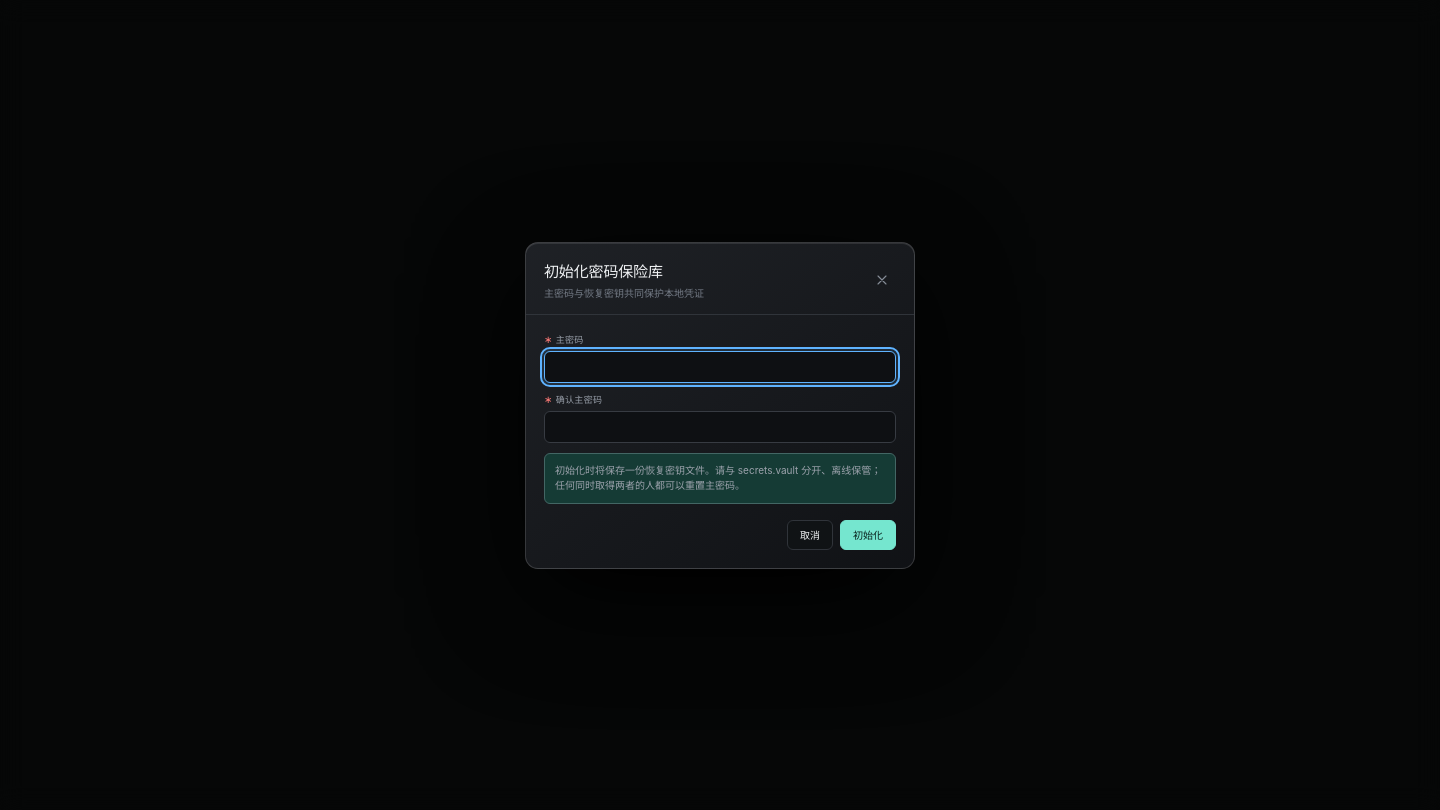
Test: MasterPasswordDialog › requires a 12 character matching master password before initialization
This screenshot has width=1440, height=810.
Type "short" into the password field labelled "主密码" at (720, 366), box [544,350,896,382]
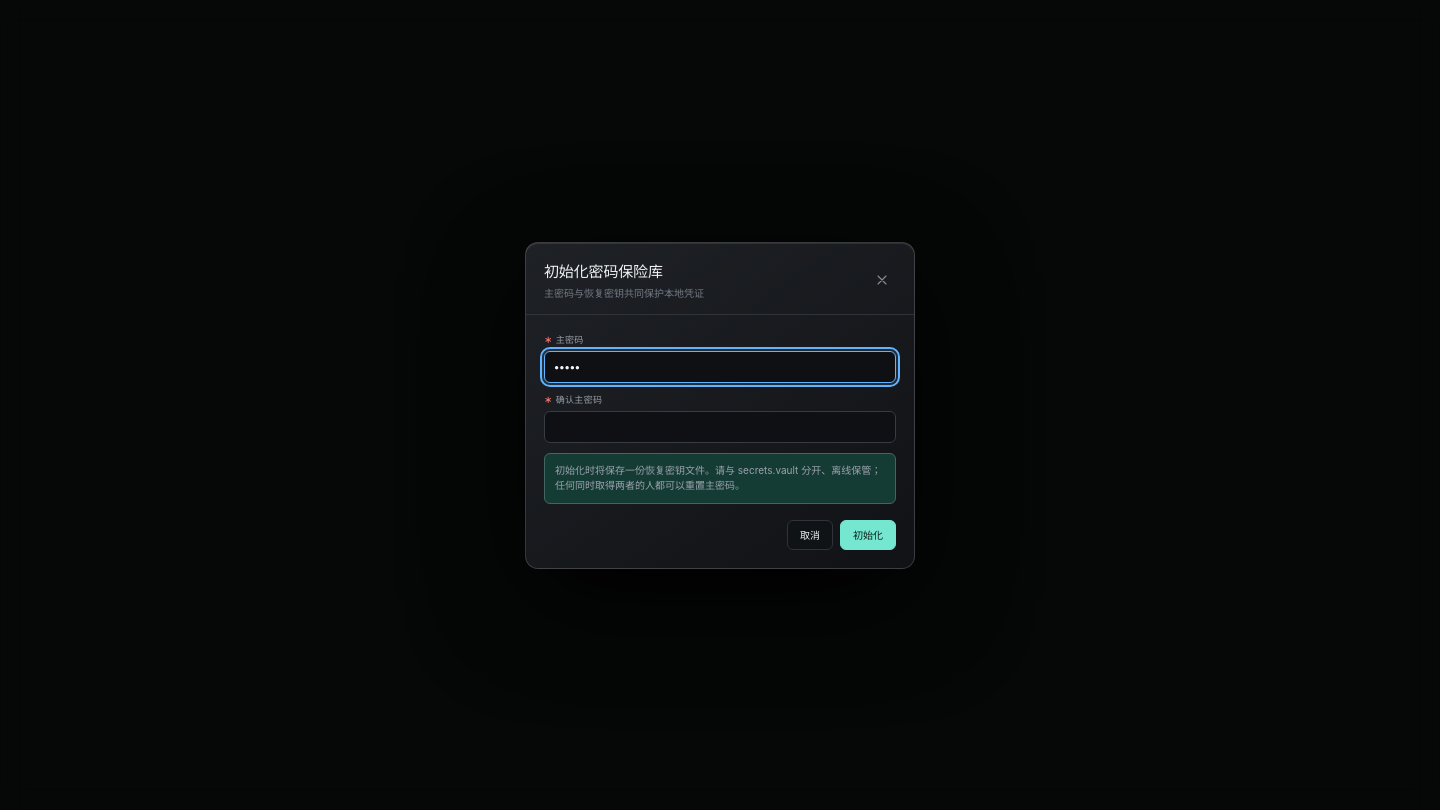
Type "short" into the password field labelled "确认主密码" at (720, 426), box [544,410,896,442]
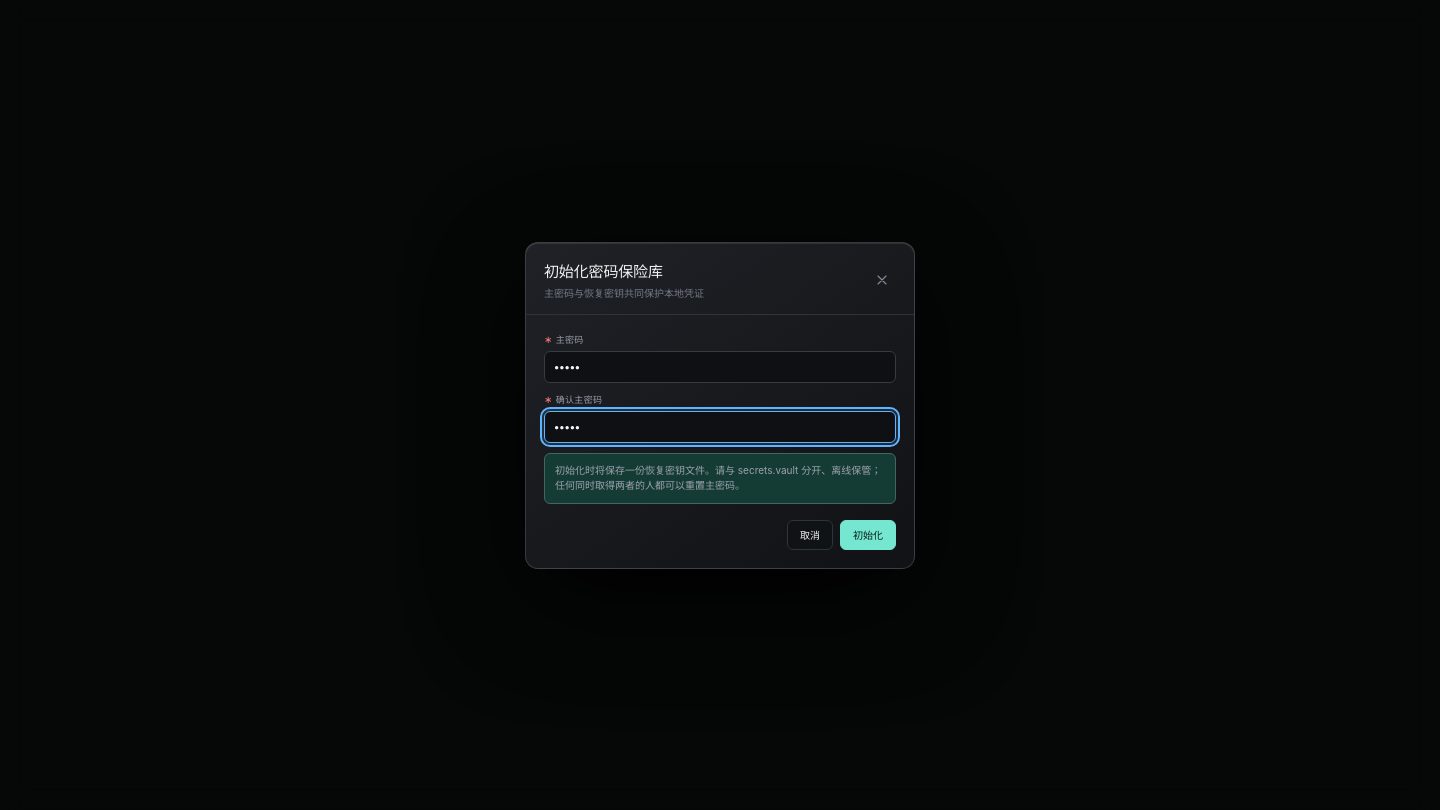
Click the button "初始化" at (868, 534), box [840,520,896,550]
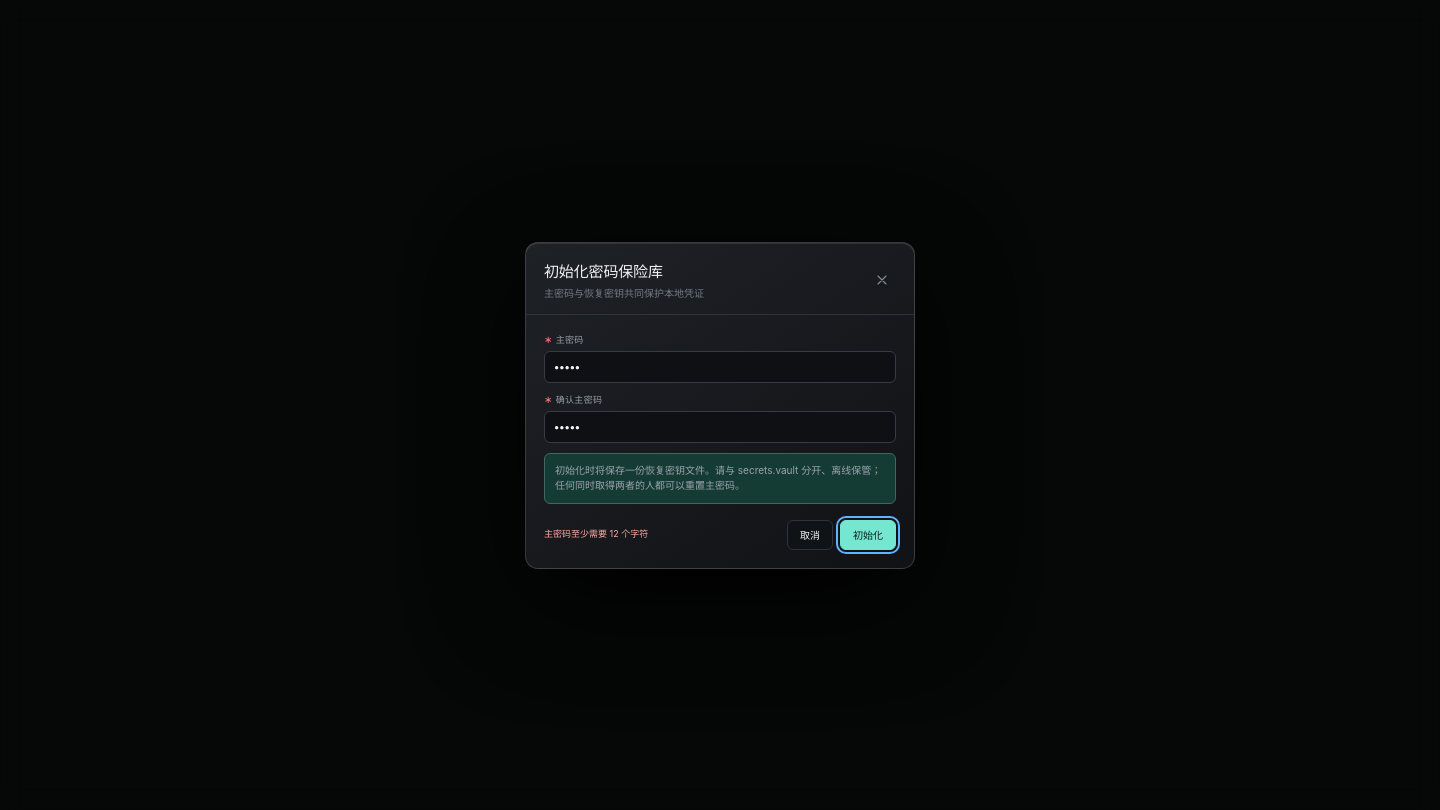
expect the message shows "至少需要 12 个字符": met, box [544,528,648,539]
